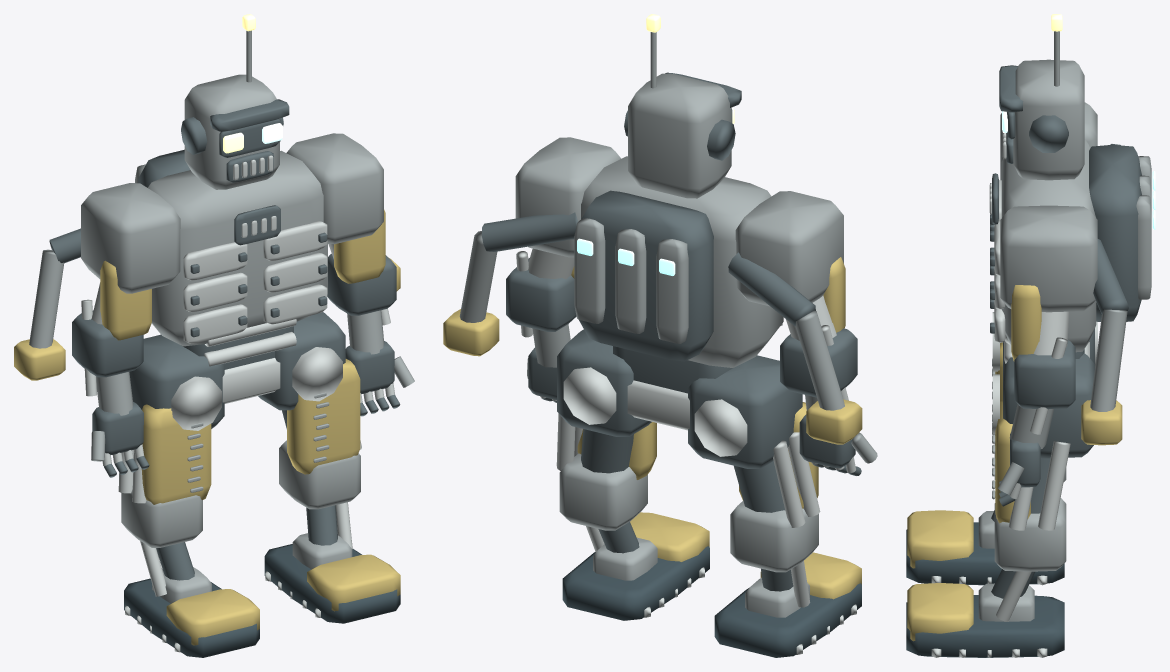
The model's file is charon.glb.
3 renders of one model, left to right at view 1: azimuth 30°, elevation 25°; view 2: azimuth 150°, elevation 25°; view 3: azimuth 270°, elevation 25°, orthographic. The views are drawn at different scales.
Parts seen in each view (by area): view 1: Shoulder hydraulic cap (×2), Armoured chest chassis, Ochre thigh armour (×2), Chest layered service plate (×6), Wide magnetic boot (×2), Hip bearing (×2), Armoured boot toe (×2), Knee swivel (×2), Elbow rotary servo (×2), Squared sensor head, Yellow upper arm shroud (×2), Hip concentric hub (×2) (+17 smaller); view 2: Shoulder hydraulic cap (×2), Hip bearing (×2), Backpack power unit, Wide magnetic boot (×2), Squared sensor head, Armoured chest chassis, Knee swivel (×2), Backpack battery (×3), Elbow rotary servo (×2), Folded support outrigger (×2), Hip concentric hub (×2), Armoured boot toe (×2) (+14 smaller); view 3: Shoulder hydraulic cap (×2), Wide magnetic boot (×2), Squared sensor head, Armoured boot toe (×2), Backpack power unit, Armoured chest chassis, Knee swivel, Elbow rotary servo, Hip bearing, Folded rear stabiliser, Chrome thigh piston (×2), Yellow upper arm shroud (+17 smaller).
Boxes of the visible parts, x1,y1,x2,y2 form: Shoulder hydraulic cap (×2): (81,133,383,293); Armoured chest chassis: (148,150,327,346); Ochre thigh armour (×2): (141,359,360,504); Chest layered service plate (×6): (183,221,327,343); Wide magnetic boot (×2): (124,544,400,657); Hip bearing (×2): (129,312,345,428); Armoured boot toe (×2): (166,554,400,645); Knee swivel (×2): (121,440,360,547); Elbow rotary servo (×2): (72,253,396,377); Squared sensor head: (184,74,279,189); Yellow upper arm shroud (×2): (100,209,385,340); Hip concentric hub (×2): (171,347,342,430); Shoulder hydraulic cap (×2): (515,137,843,306); Hip bearing (×2): (557,329,802,468); Backpack power unit: (579,190,713,361); Wide magnetic boot (×2): (562,546,861,657); Squared sensor head: (628,73,731,198); Armoured chest chassis: (581,156,783,367); Knee swivel (×2): (559,453,818,572); Backpack battery (×3): (574,218,688,343); Elbow rotary servo (×2): (506,258,857,397); Folded support outrigger (×2): (481,212,815,326); Hip concentric hub (×2): (563,367,747,456); Armoured boot toe (×2): (630,512,861,599); Shoulder hydraulic cap (×2): (1000,102,1097,312); Wide magnetic boot (×2): (906,522,1064,657); Squared sensor head: (1013,59,1084,180); Armoured boot toe (×2): (907,510,973,641); Backpack power unit: (1089,144,1141,321); Armoured chest chassis: (1001,139,1096,352); Knee swivel: (994,498,1066,571); Elbow rotary servo: (1014,340,1075,409); Hip bearing: (1003,353,1094,458); Folded rear stabiliser: (1090,309,1127,411); Chrome thigh piston (×2): (1009,441,1070,530); Yellow upper arm shroud: (1011,285,1041,361).
Bounding box in the file's own units: 3.45 × 5.01 × 1.89.
